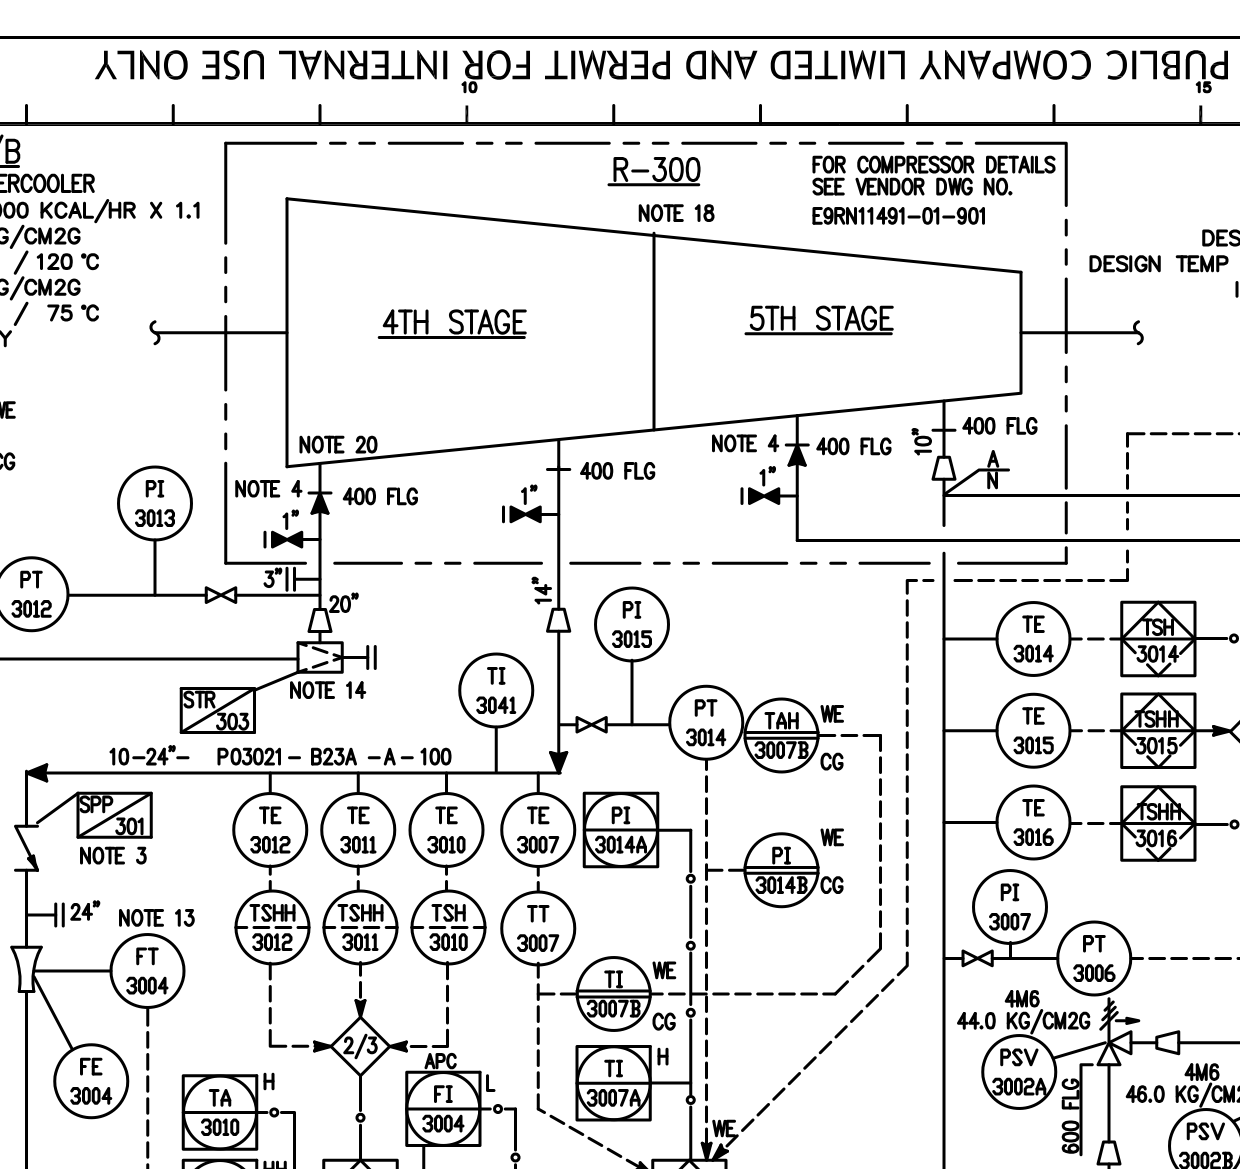Instrument Tag: (590, 584, 672, 667), (666, 680, 748, 762), (579, 790, 661, 872), (498, 791, 580, 873), (407, 788, 490, 870), (107, 931, 189, 1013), (994, 598, 1076, 680), (993, 689, 1075, 771), (970, 865, 1052, 947), (457, 649, 539, 731), (319, 788, 400, 870), (230, 788, 311, 870), (51, 1040, 132, 1123), (993, 781, 1075, 862), (1055, 917, 1138, 999), (498, 888, 579, 970), (1, 552, 82, 634), (114, 461, 196, 543)
Line Number: (107, 741, 458, 766)
PSV: (1095, 993, 1146, 1072)
Reducer: (927, 452, 960, 485), (1093, 1137, 1126, 1169), (1152, 1028, 1185, 1060), (541, 605, 574, 637), (302, 606, 335, 638)
Valve: (744, 485, 787, 511), (956, 946, 999, 972), (198, 582, 241, 608), (266, 526, 309, 552), (506, 503, 549, 528)
